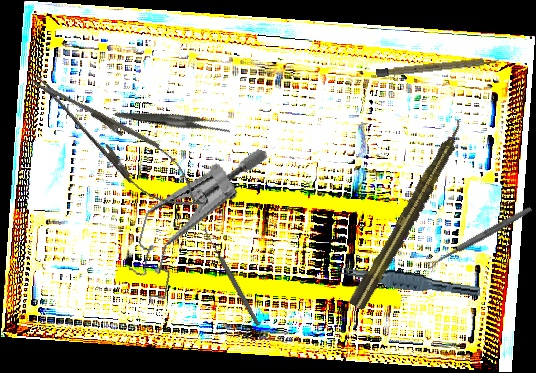Dressing Forceps: (114, 77, 234, 162)
Handpiece: (347, 117, 471, 312)
Needle Holder: (17, 56, 216, 227)
Scalpel Handle: (375, 56, 500, 78)
Speculum: (117, 122, 271, 325)
Surgical Spoon: (425, 205, 533, 270), (201, 227, 262, 327)
Tissue Forceps: (335, 263, 482, 298)
